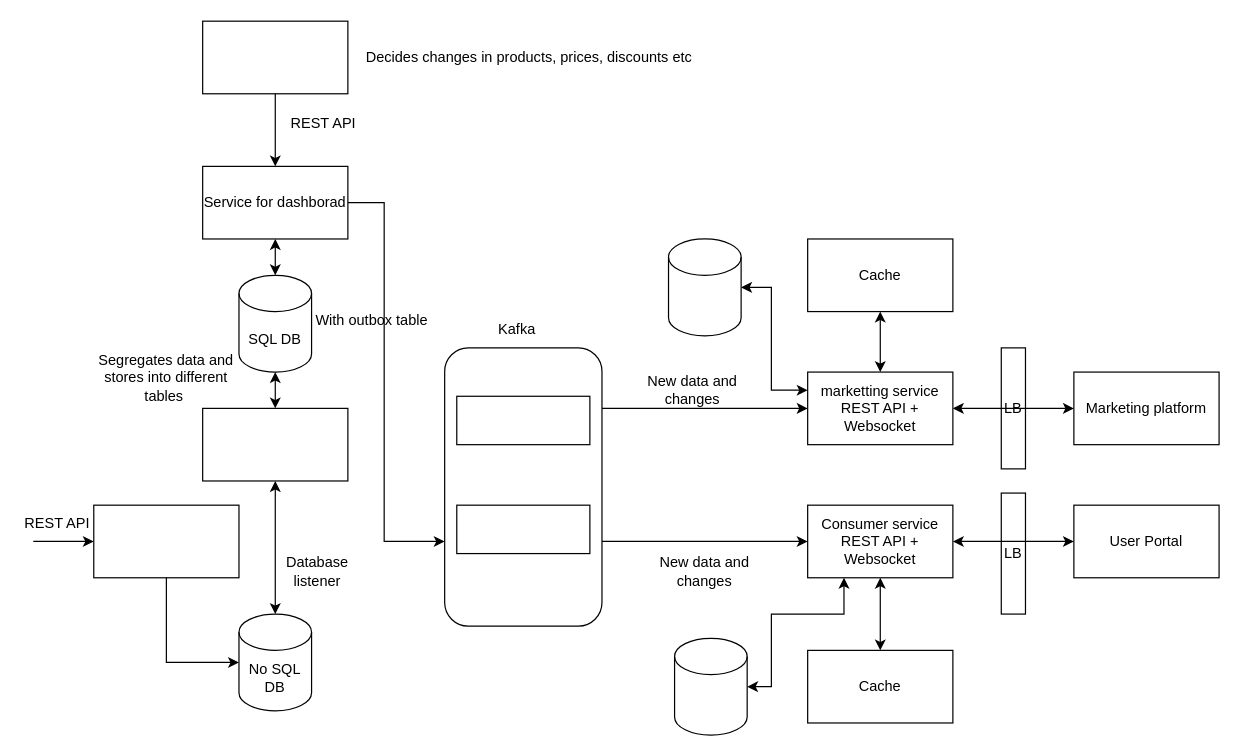
The diagram is 1240 pixels wide and 756 high, and some of its shapes have lost their labels. The centre of each missing label's shape, as x and y in pixels:
Data segregation: (274,444)
Marketting topic: (523,420)
PIM Dashboard: (274,57)
Product service: (166,541)
user portal topic: (523,529)
